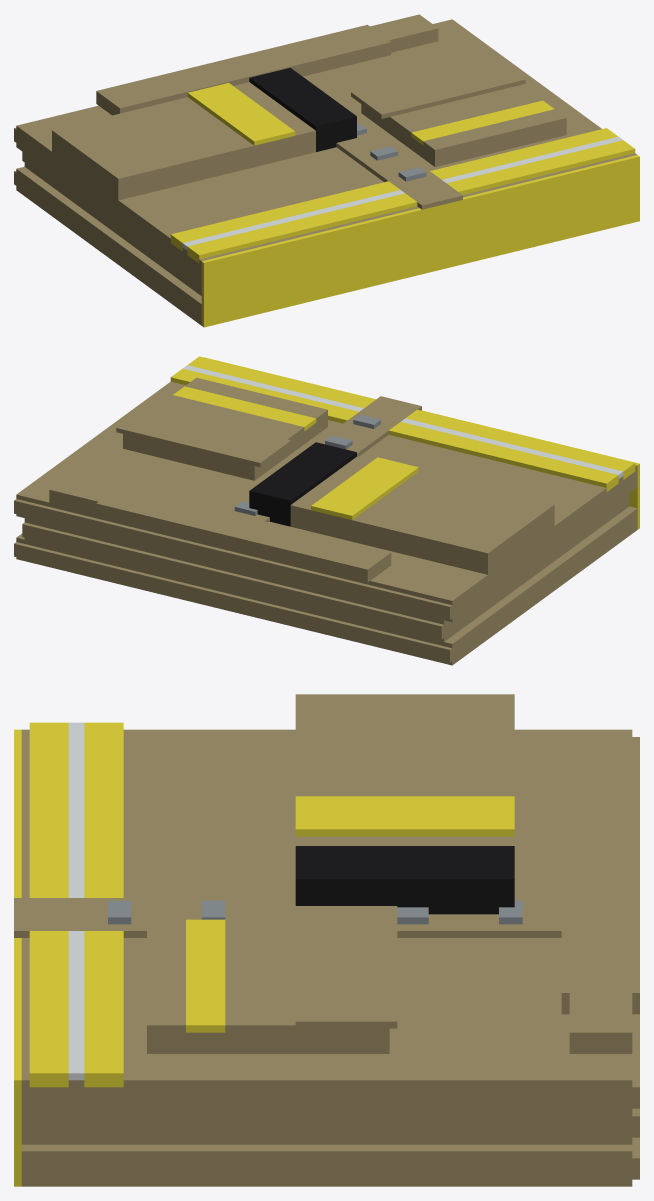
File: bunker_coat.glb
The picture shows the model from 3 angles, top to bottom: view 1: azimuth 30°, elevation 25°; view 2: azimuth 150°, elevation 25°; view 3: azimuth 270°, elevation 25°; orthographic projection. The views are drawn at different scales.
Parts seen in each view (by area): view 1: bunker_coat:compound; view 2: bunker_coat:compound; view 3: bunker_coat:compound.
Boxes of the visible parts, x1=… form: bunker_coat:compound: x1=14, y1=14, x2=639, y2=327; bunker_coat:compound: x1=14, y1=356, x2=639, y2=665; bunker_coat:compound: x1=14, y1=694, x2=639, y2=1186.
Bounding box in the file's own units: 0.424 × 0.084 × 0.32.
